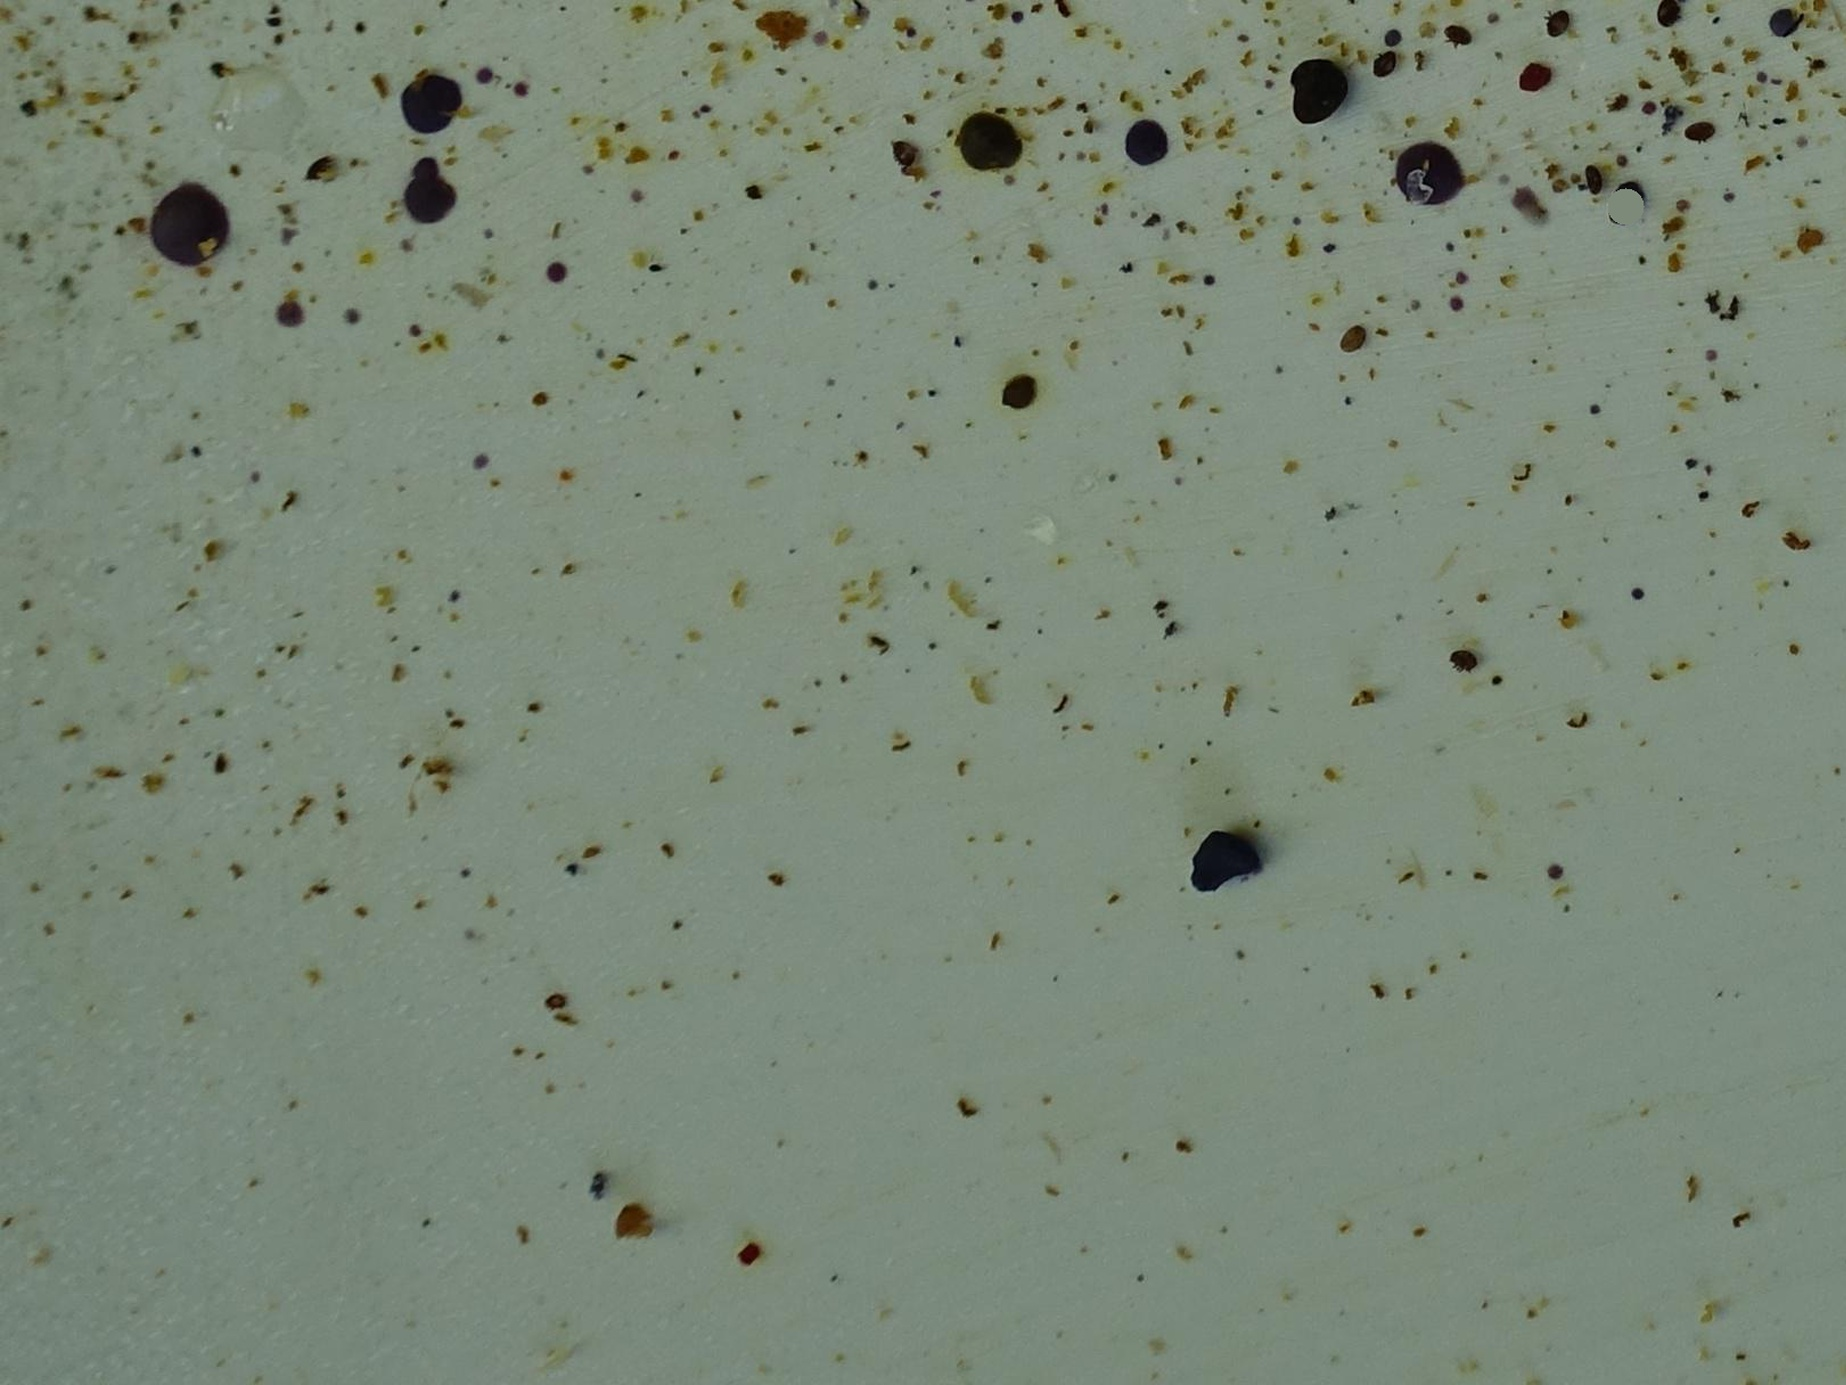Varroa: (893, 143, 919, 172), (310, 156, 335, 180), (1447, 23, 1469, 47), (1689, 119, 1711, 141), (1583, 167, 1605, 189), (1455, 649, 1475, 671), (1378, 52, 1397, 76), (1549, 13, 1570, 33), (1344, 327, 1364, 348), (1661, 1, 1679, 22)
